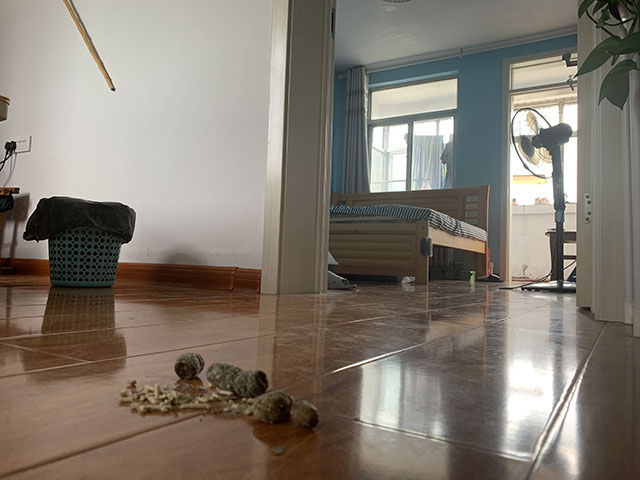bed: (328, 183, 491, 287)
feces: (206, 362, 321, 430), (174, 351, 205, 380)
slippers: (328, 271, 359, 291)
stool: (545, 228, 576, 283)
trashcan: (22, 195, 137, 288)
wire: (498, 241, 576, 290)
